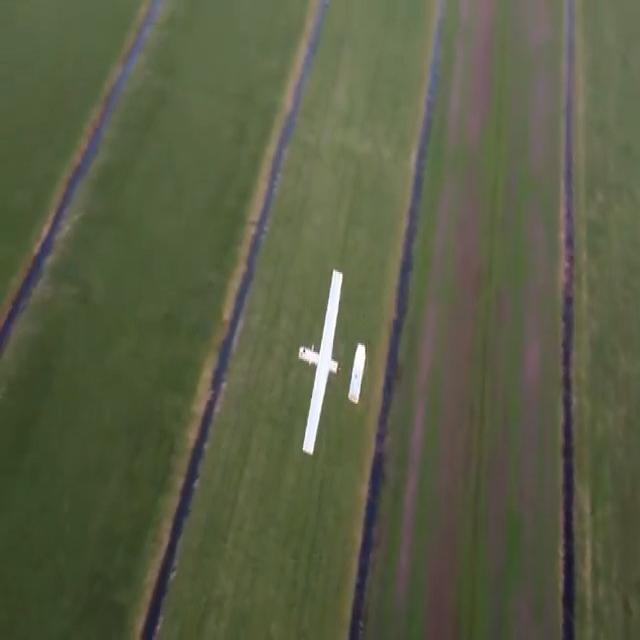iha: (322, 262, 328, 458)
